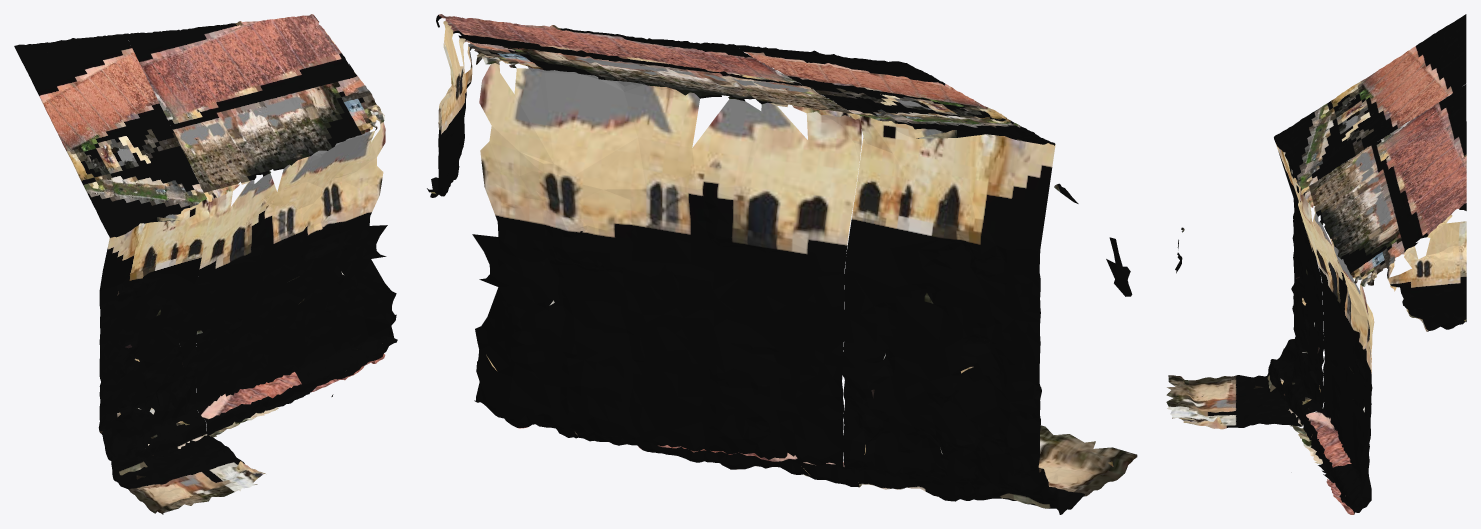
3 renders of one model, left to right at view 1: azimuth 30°, elevation 25°; view 2: azimuth 150°, elevation 25°; view 3: azimuth 270°, elevation 25°, orthographic. The views are drawn at different scales.
Parts seen in each view (by area): view 1: node_41; view 2: node_41; view 3: node_41.
Boxes of the visible parts, x1,y1,x2,y2 form: node_41: [14, 14, 397, 514]; node_41: [427, 14, 1137, 514]; node_41: [1166, 14, 1466, 514].
Size of the model in its own units: 17.1 by 18.11 by 13.4.
1 material, 1 textured.
